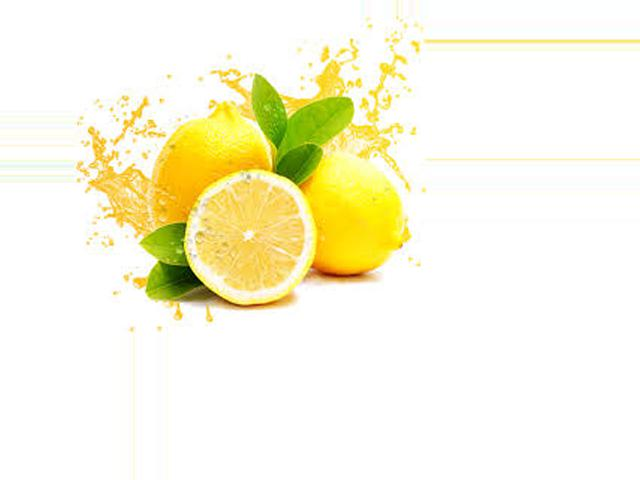lemon: (274, 139, 401, 279)
